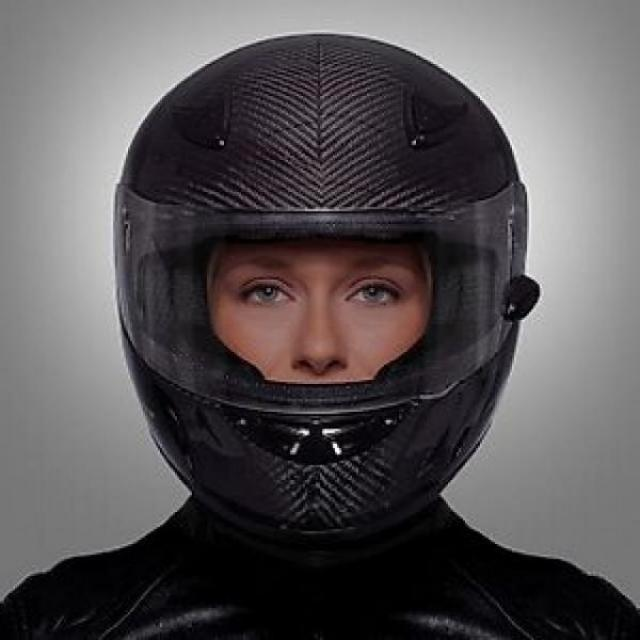Helmet: (101, 30, 546, 528)
